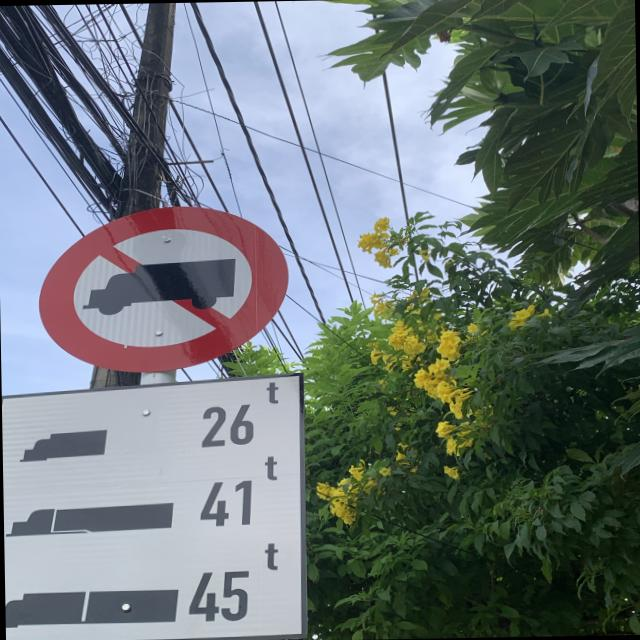Cam_Xe_Tai: (36, 204, 288, 376)
